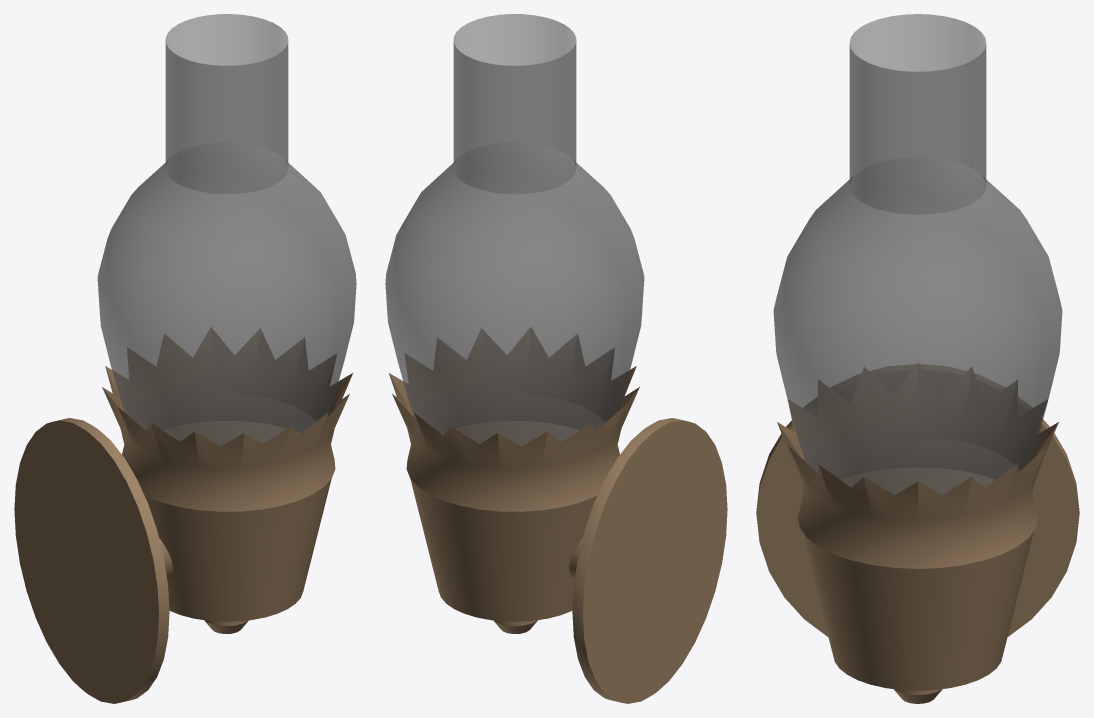
File: Lantern.fbx
3 renders of one model, left to right at view 1: azimuth 30°, elevation 25°; view 2: azimuth 150°, elevation 25°; view 3: azimuth 270°, elevation 25°, orthographic. The views are drawn at different scales.
Visible parts, largest first — view 1: Sphere.005; view 2: Sphere.005; view 3: Sphere.005.
Boxes of the visible parts, <box> form: Sphere.005: <box>14,14,356,703</box>; Sphere.005: <box>385,14,727,703</box>; Sphere.005: <box>756,14,1079,703</box>.
Size of the model in its own units: 60.26 by 141 by 60.
